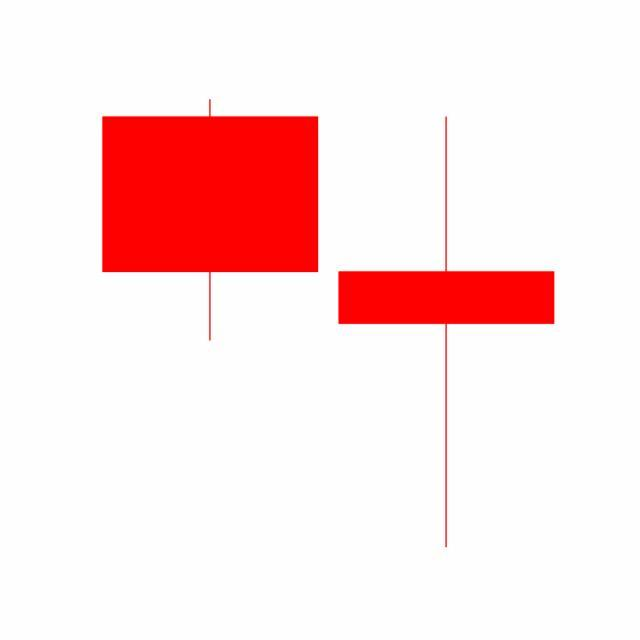Spinning Top: (328, 112, 566, 553)
